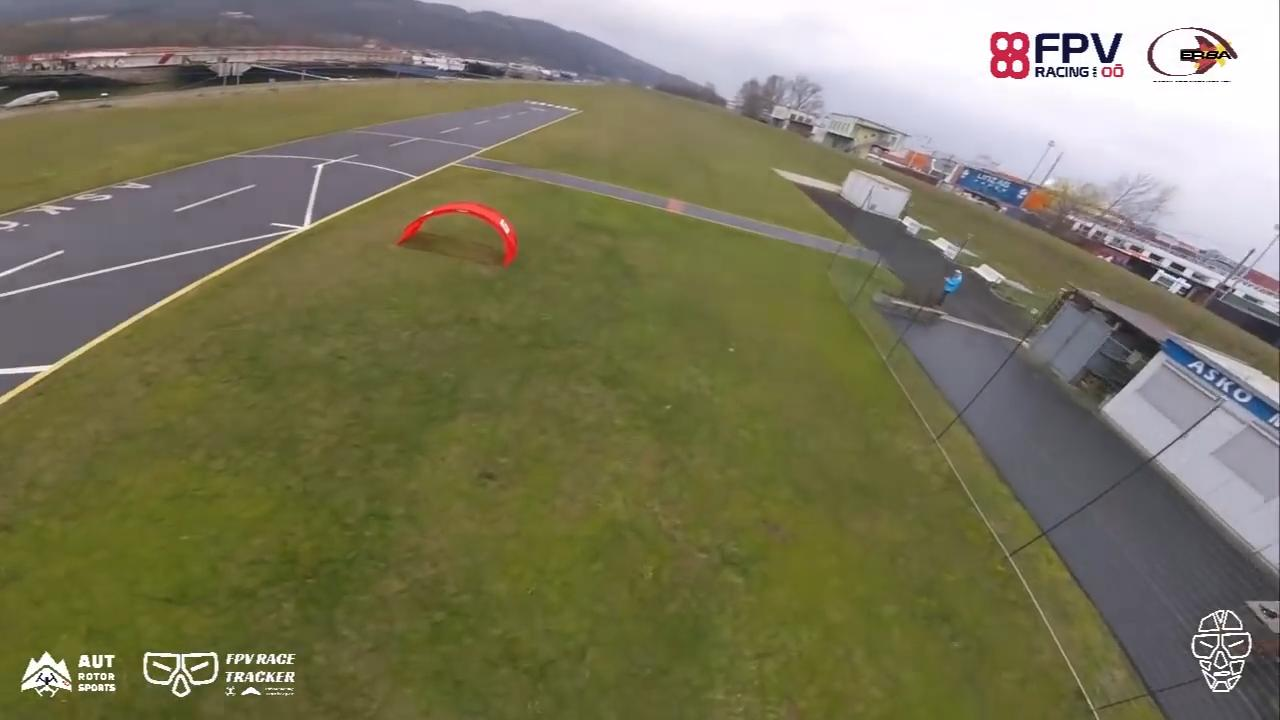gate: (393, 198, 518, 271)
